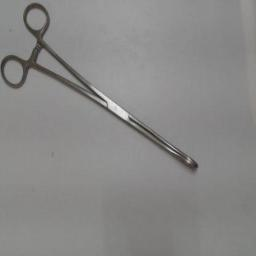Sponge Forceps: (0, 0, 204, 176)
